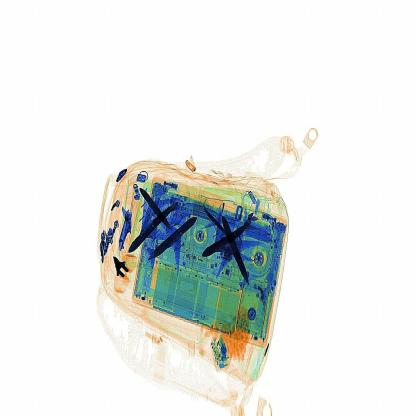gun: (107, 243, 143, 297)
